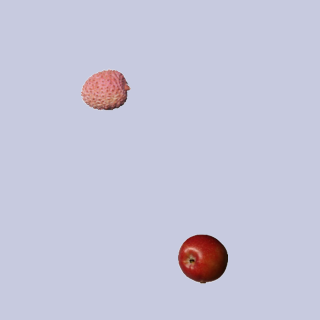Apple Braeburn: (177, 233, 227, 283)
Lychee: (80, 64, 130, 114)
